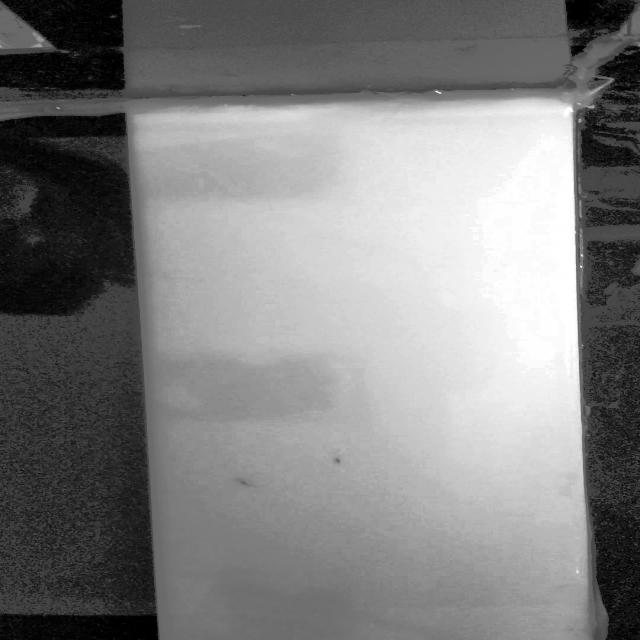shrimp: (220, 474, 264, 496), (315, 451, 350, 471)
